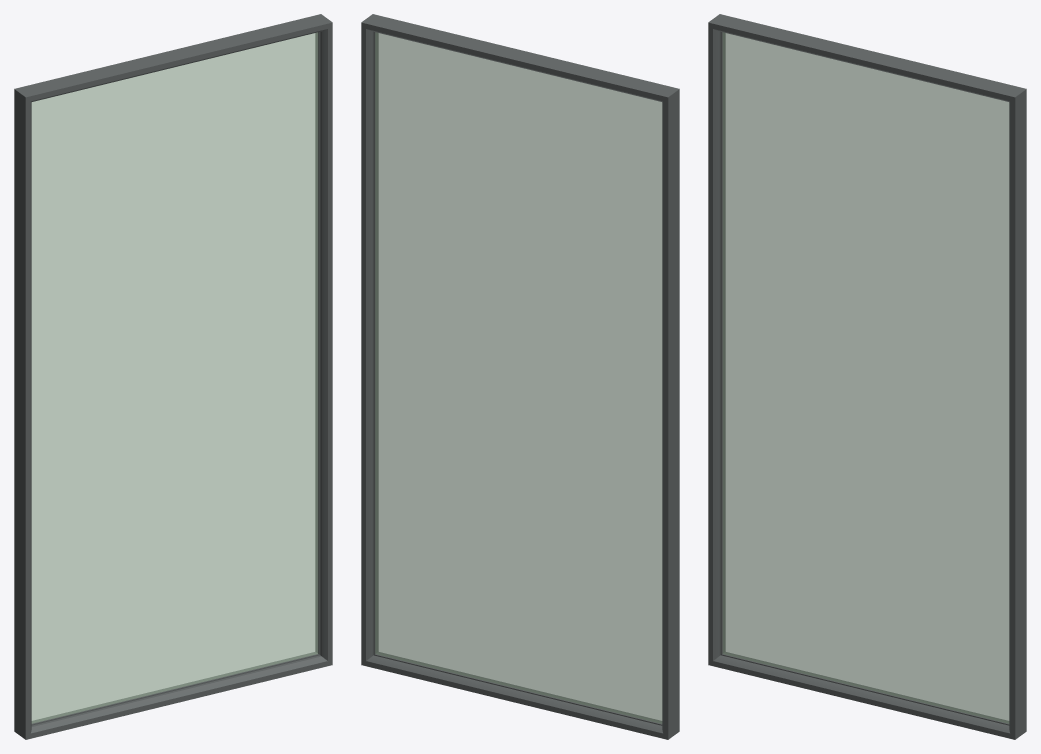
File: 3d-window.model.fbx
The picture shows the model from 3 angles, left to right: view 1: azimuth 30°, elevation 25°; view 2: azimuth 150°, elevation 25°; view 3: azimuth 330°, elevation 25°; orthographic projection.
Parts seen in each view (by area): view 1: Layer0_001; view 2: Layer0_001; view 3: Layer0_001.
Boxes of the visible parts, x1,y1,x2,y2 form: Layer0_001: (14,14,332,739); Layer0_001: (361,14,679,739); Layer0_001: (708,14,1026,739).
Bounding box in the file's own units: 24 × 48 × 1.58.
